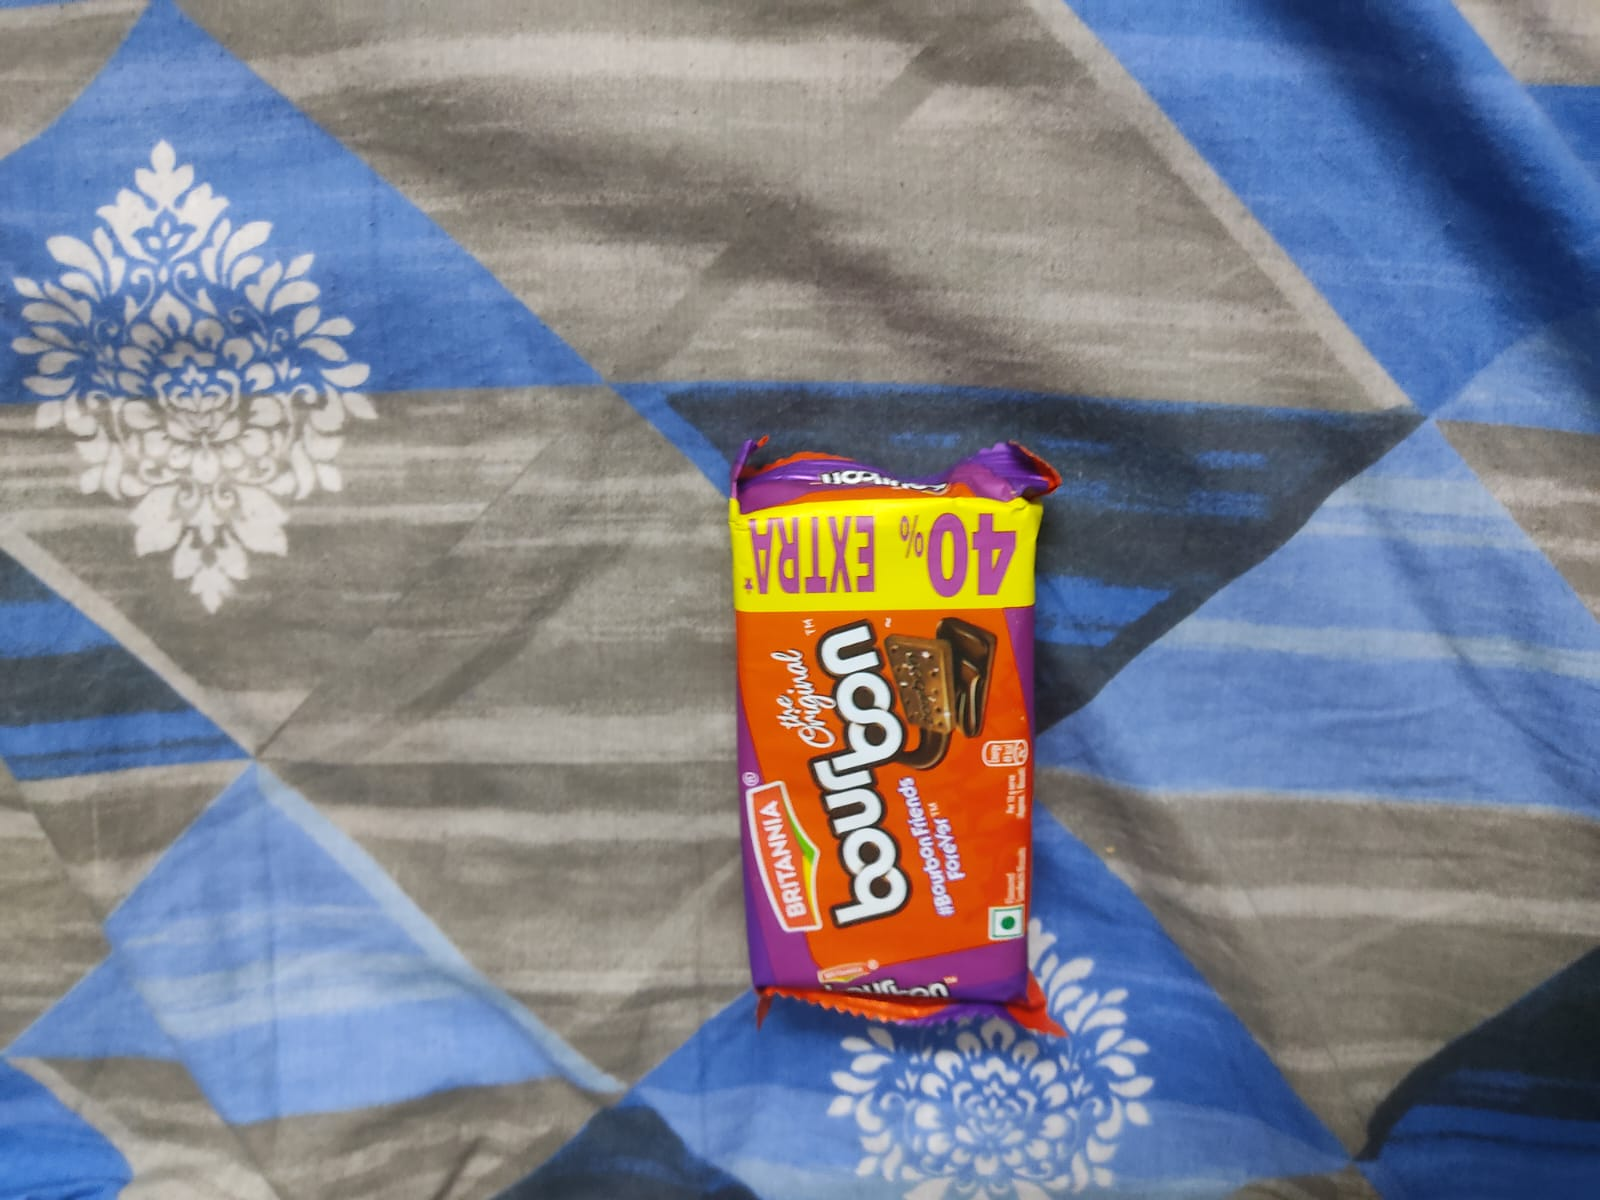010_Bourbon: (717, 482, 1049, 1003)
